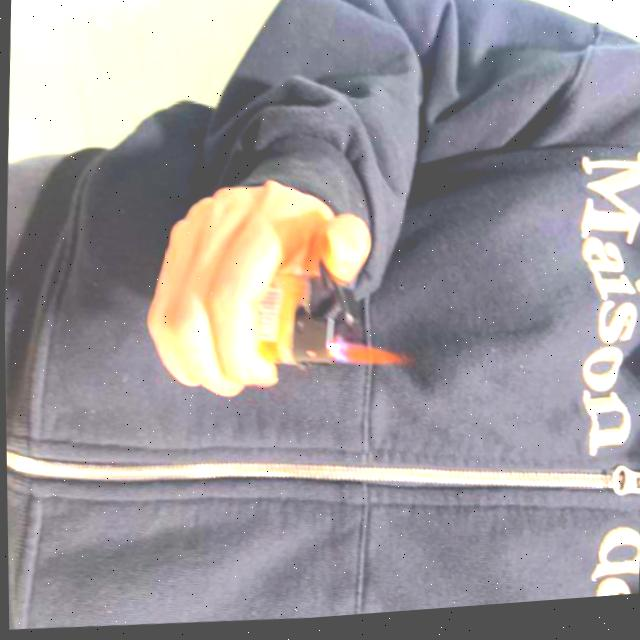Fire: (330, 342, 410, 372)
